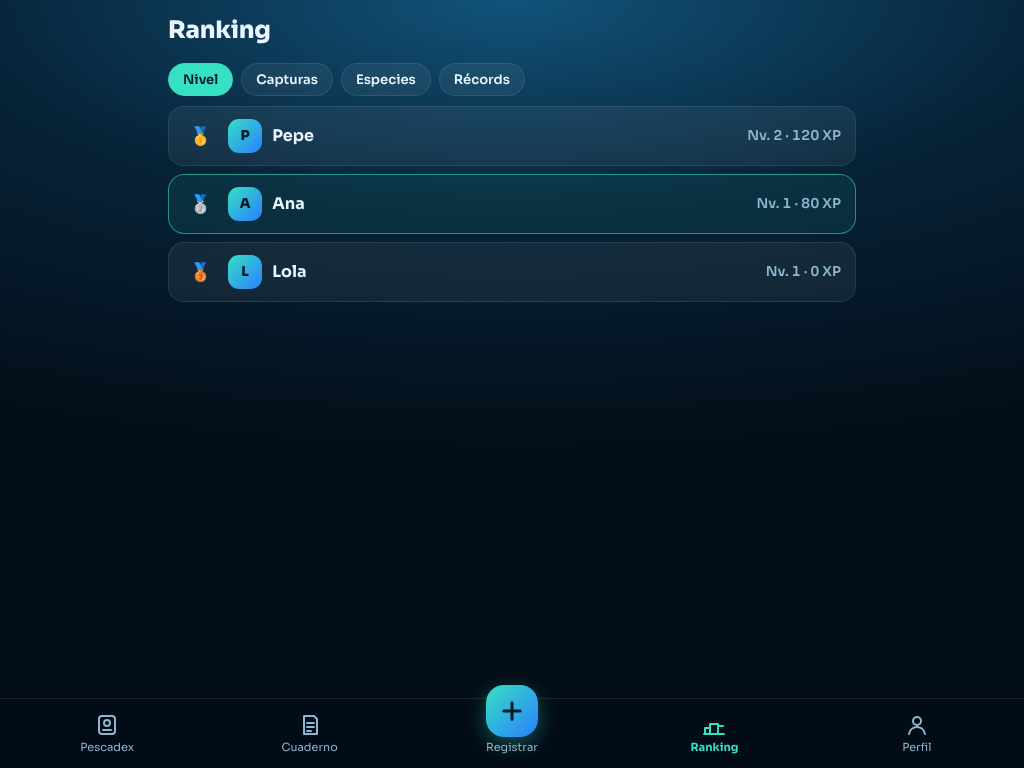
Scenario: récords: la pieza más grande de cada especie y quién la sacó
Click the button "Récords". click: {"x": 482, "y": 79}
box: [439,63,525,96]
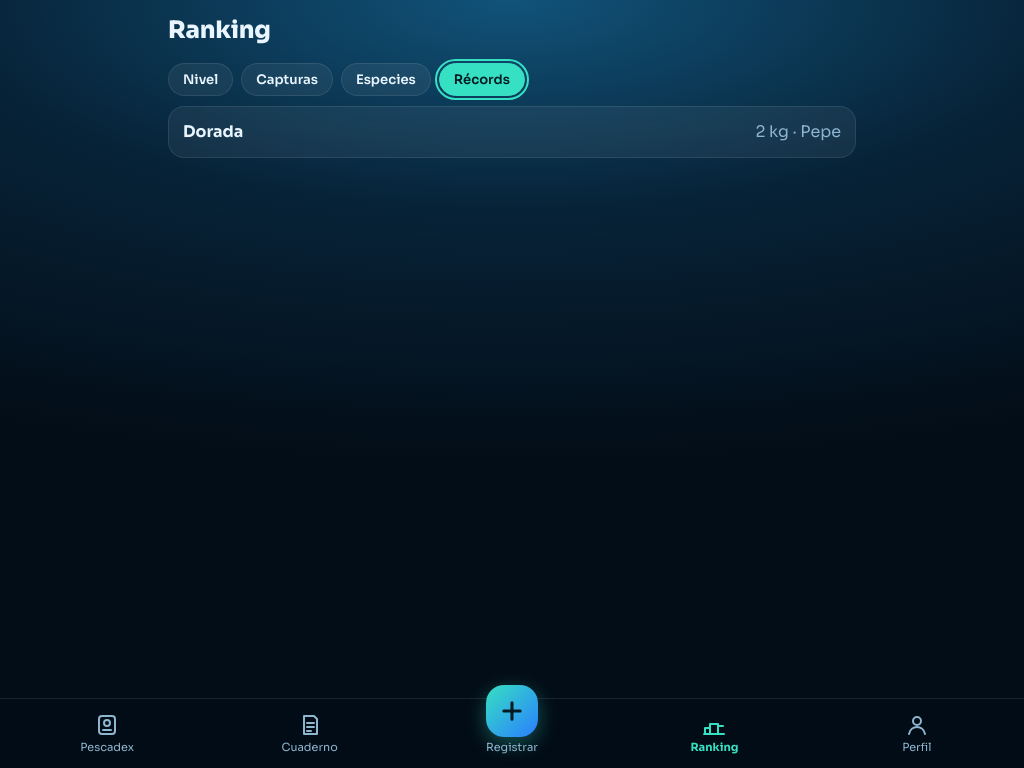
Check: the text "Dorada" is shown, box [183,121,243,142]
Check: the list item with test id "record-dorada" reads "Dorada 2 kg · Pepe", box [168,106,856,158]
